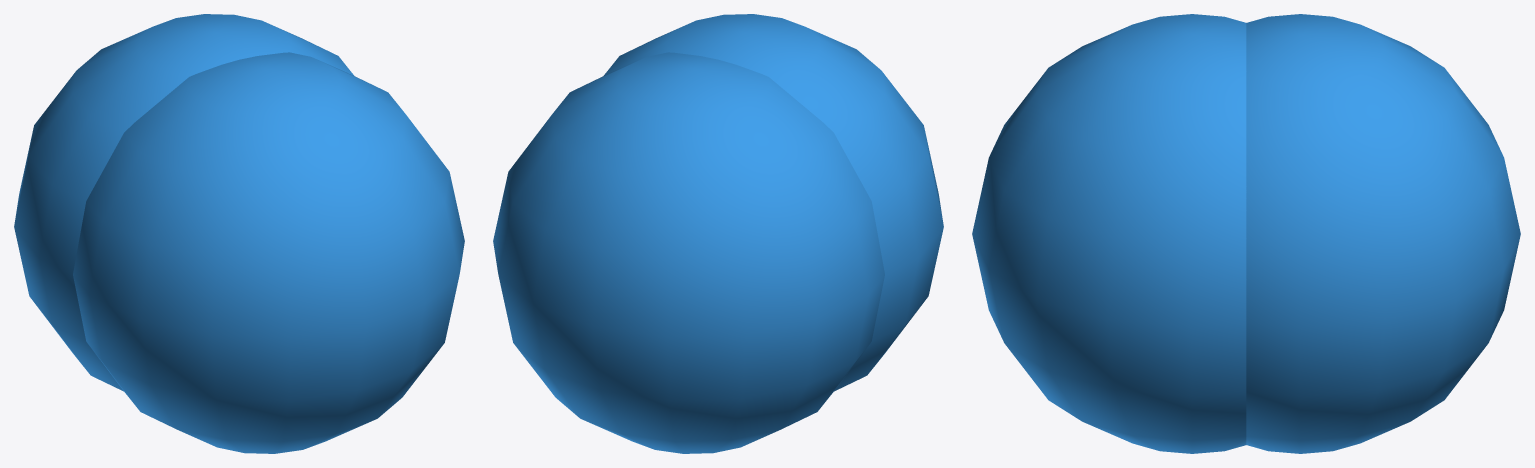
3 renders of one model, left to right at view 1: azimuth 30°, elevation 25°; view 2: azimuth 150°, elevation 25°; view 3: azimuth 270°, elevation 25°, orthographic. The views are drawn at different scales.
Parts seen in each view (by area): view 1: N2.001; view 2: N2.001; view 3: N2.001.
Boxes of the visible parts, x1,y1,x2,y2 form: N2.001: (14, 14, 464, 453); N2.001: (493, 14, 943, 453); N2.001: (972, 14, 1520, 453).
Bounding box in the file's own units: 200 × 200 × 249.
